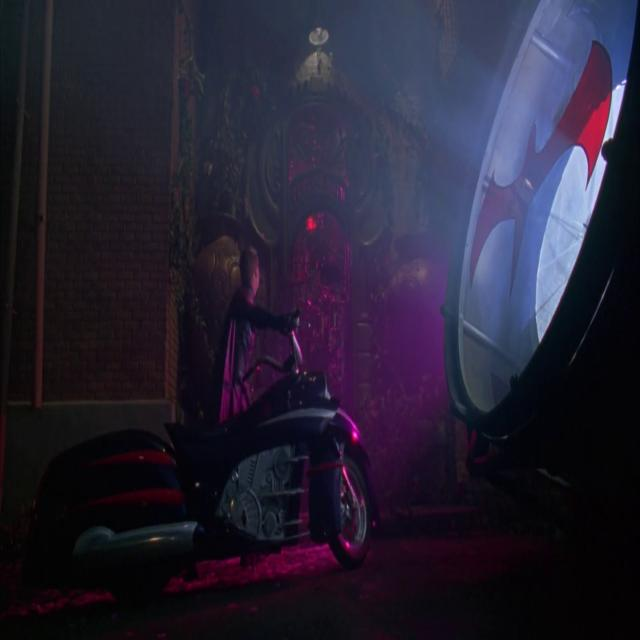Motorbike: (1, 313, 395, 640)
People: (185, 196, 290, 534)
